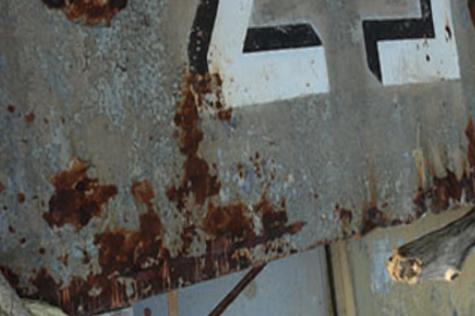rust: (165, 61, 295, 281), (47, 168, 169, 313), (424, 127, 475, 212), (50, 1, 143, 27)
